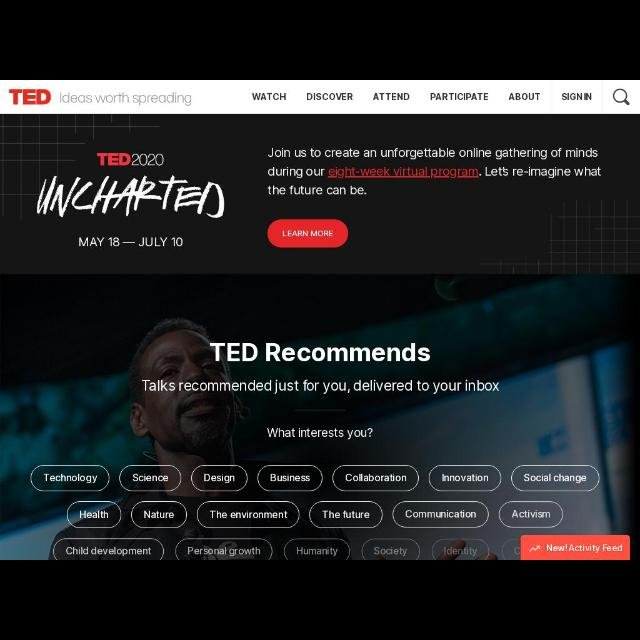backgroundimage: (3, 276, 639, 558), (1, 113, 639, 274)
button: (604, 81, 638, 112)
icon: (614, 88, 630, 105), (529, 547, 541, 551)
image: (35, 152, 225, 222), (8, 88, 50, 105)
text: (270, 147, 602, 197), (210, 340, 430, 366), (142, 378, 498, 394), (59, 94, 192, 106), (266, 426, 374, 438), (80, 237, 182, 249), (547, 544, 623, 552), (307, 92, 353, 100), (430, 94, 488, 100), (510, 92, 540, 101), (254, 92, 286, 100), (373, 94, 409, 100), (514, 548, 520, 554)
textbutton: (198, 502, 298, 528), (394, 501, 488, 527), (334, 465, 420, 493), (268, 220, 348, 248), (53, 538, 163, 558), (513, 467, 599, 491), (310, 501, 382, 529), (32, 465, 108, 491), (175, 539, 272, 559), (428, 466, 502, 492), (499, 502, 565, 528), (258, 466, 320, 492), (120, 466, 180, 492), (552, 81, 602, 112), (192, 466, 248, 492), (132, 502, 186, 528), (286, 539, 350, 559), (68, 502, 120, 526), (362, 539, 418, 559), (432, 538, 488, 558)
toolbar: (1, 81, 639, 112)
